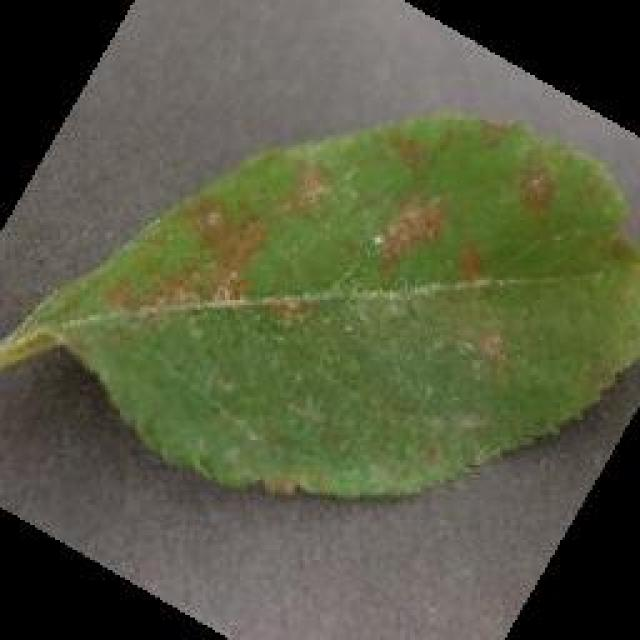apple rust disease: (0, 108, 638, 502)
